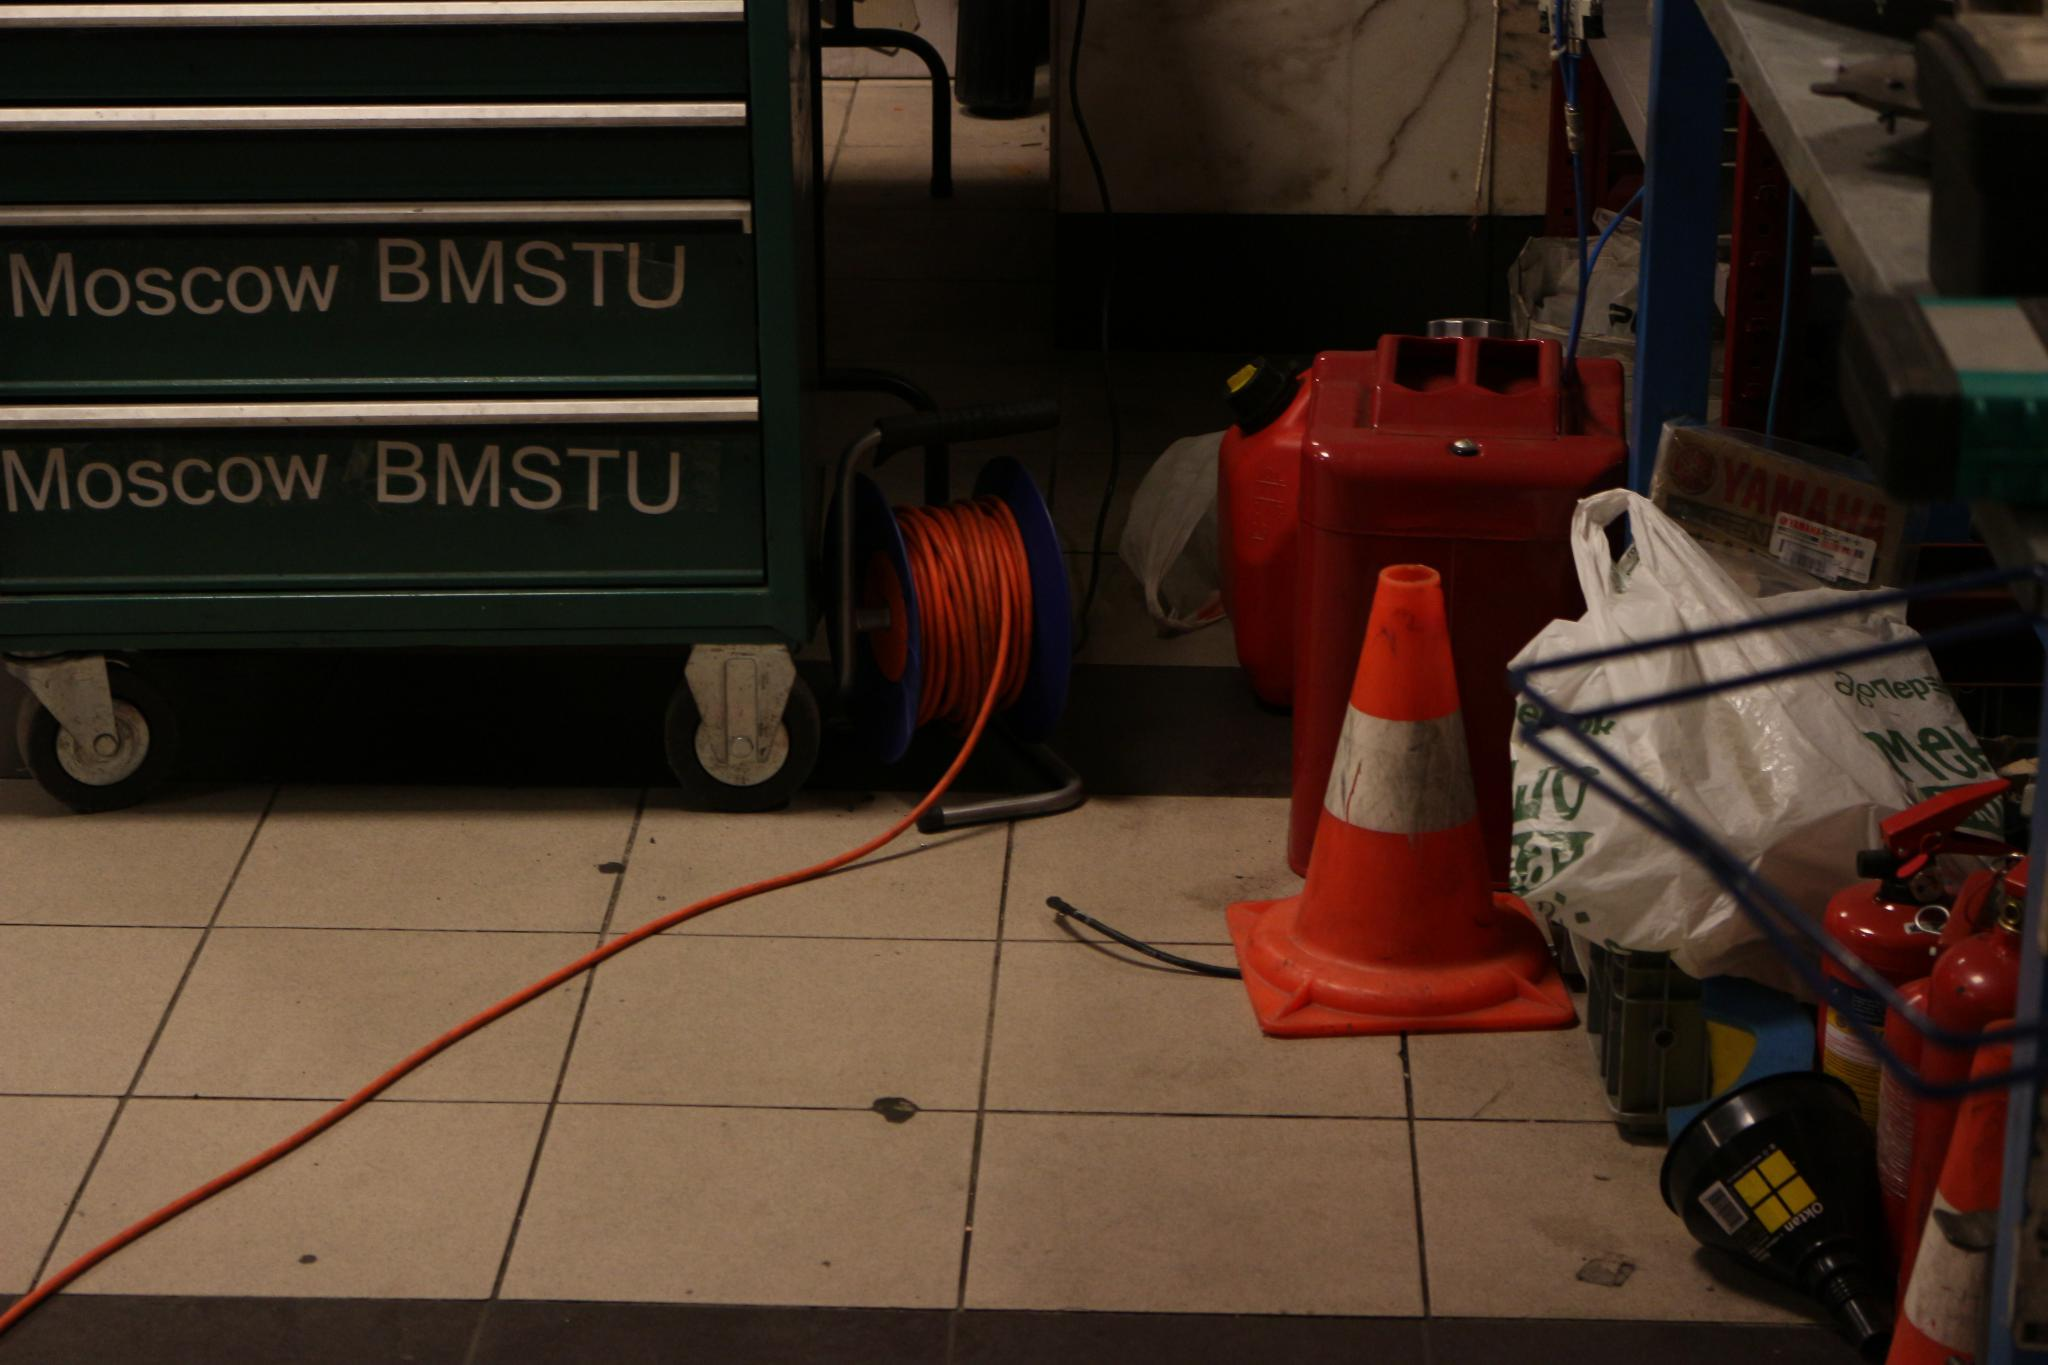Orange_Cone: (1233, 547, 1574, 1039)
